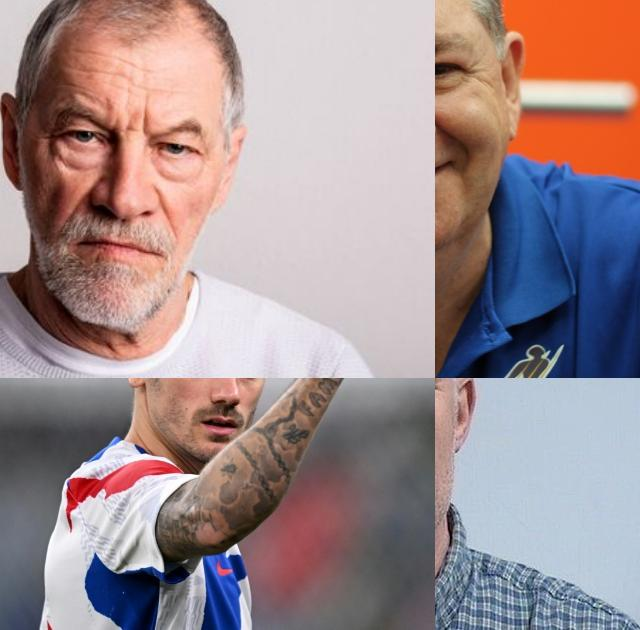crows_feet: (458, 60, 487, 87), (39, 124, 61, 152), (435, 378, 440, 397)
forehead: (118, 55, 144, 73), (83, 46, 115, 60)
frown_line: (135, 104, 149, 138)
gummy_smile: (440, 116, 472, 154), (65, 185, 89, 214), (154, 190, 172, 221)
